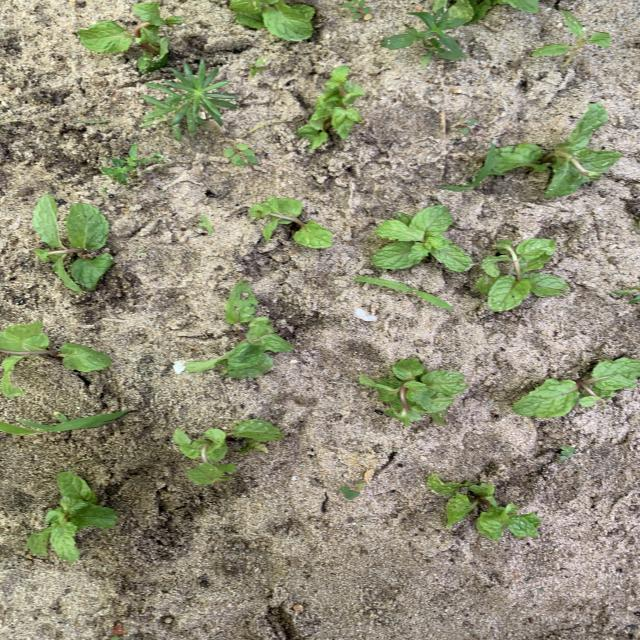crop: (445, 103, 622, 195), (187, 281, 295, 377), (28, 473, 118, 561), (0, 323, 109, 395), (33, 195, 112, 291), (513, 359, 639, 418), (360, 358, 466, 423), (174, 420, 283, 483), (477, 239, 567, 311), (372, 206, 472, 270), (78, 2, 168, 71), (299, 66, 364, 150), (250, 198, 331, 247), (427, 474, 497, 527), (230, 1, 315, 39), (433, 0, 537, 25), (477, 503, 539, 539)
weed: (141, 60, 236, 141), (532, 10, 611, 70), (383, 12, 465, 66), (0, 410, 130, 435), (356, 277, 451, 309), (101, 145, 150, 183), (224, 142, 256, 165), (344, 1, 371, 18), (339, 482, 366, 499), (613, 287, 639, 303), (457, 114, 475, 134), (558, 445, 574, 461), (250, 57, 264, 75), (199, 216, 213, 231)
